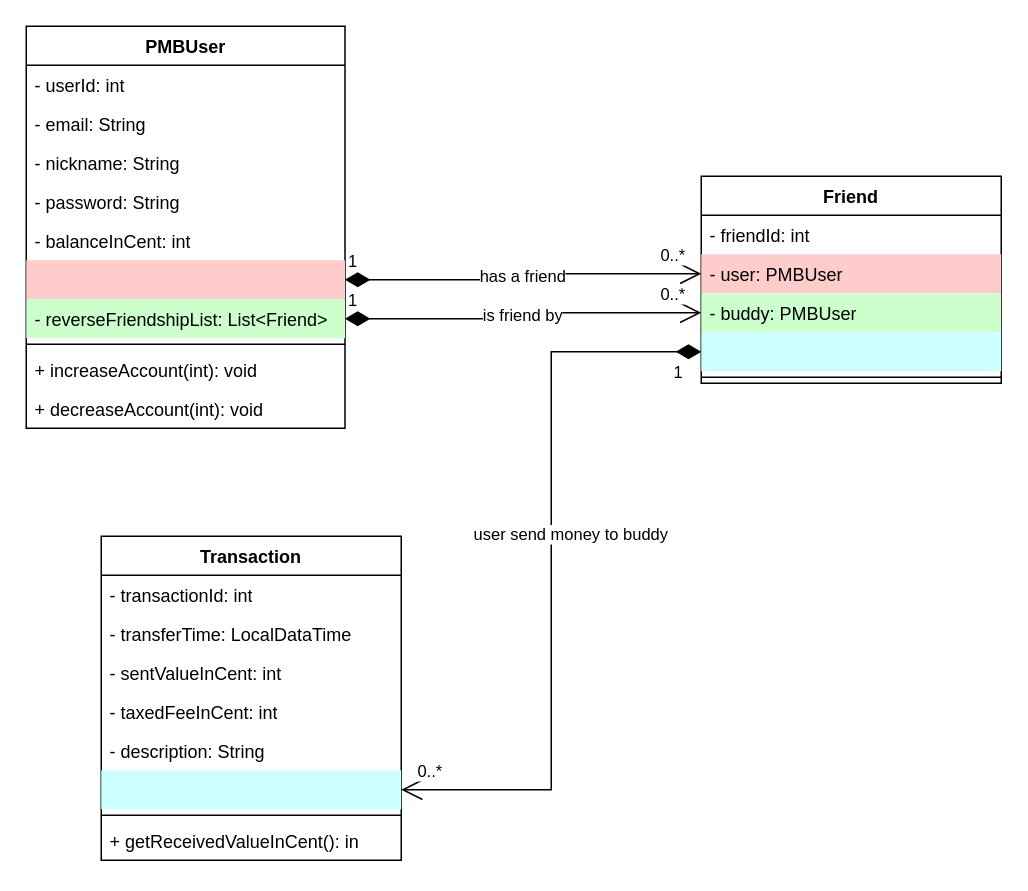
Some shapes in this 1028 by 891 pixel diagram are drawn without their labels. The shapes that lost their labels are listed below. From the top down, each one's box as (x1, y1, x2, y2) in pixels, then its label:
(26, 260, 344, 298): - friendList: List<Friend>
(700, 332, 1000, 370): - transactionList: List<Transaction>
(100, 770, 400, 808): - friendship: Friend
